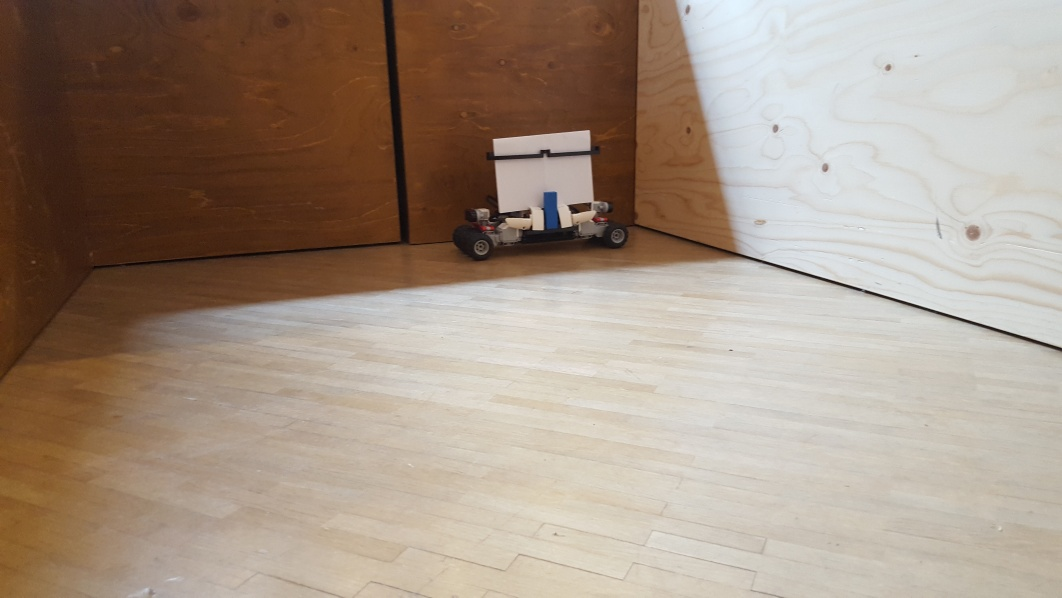car: (452, 129, 630, 262)
